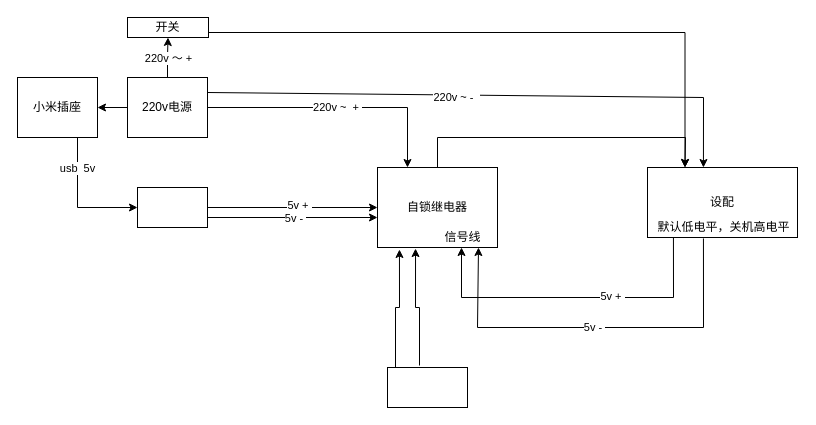
The diagram is 816 pixels wide and 425 high, and some of its shapes have lost their labels. The centre of each missing label's shape, as x and y in pixels:
"5v电源" goes at (x=172, y=207).
"自复位开关" goes at (x=427, y=387).
